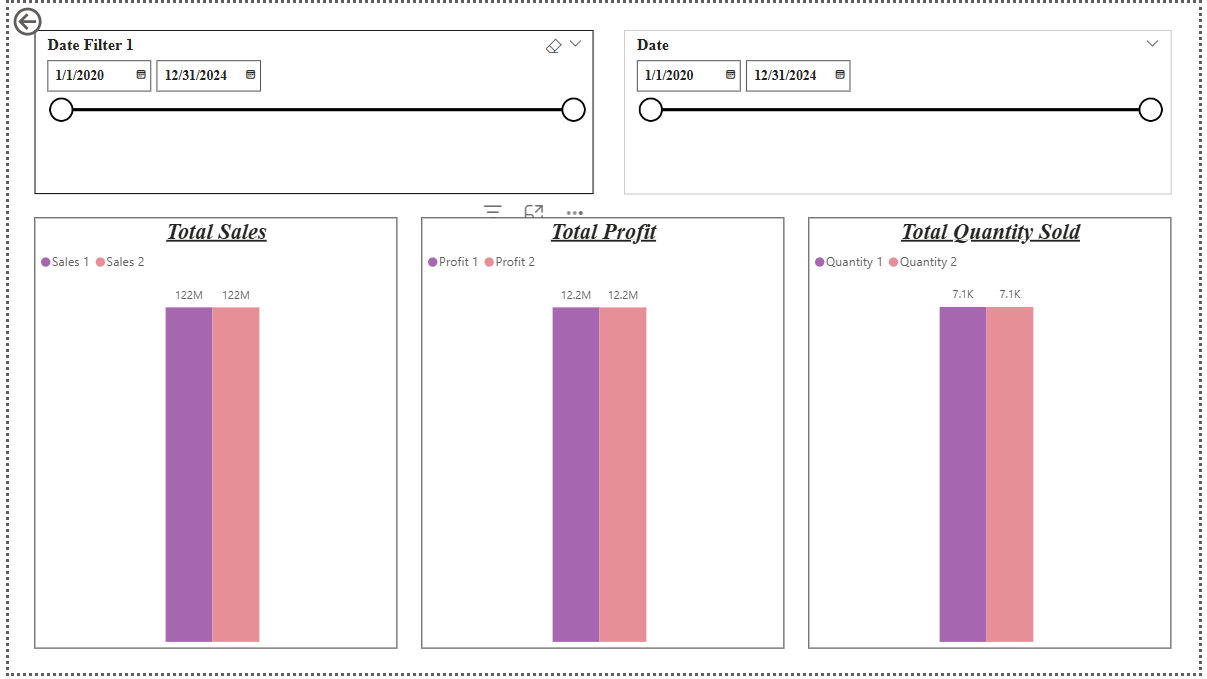

The dashboard page shown, as its layout file describes it:
{"tool":"powerbi","page":{"name":"Comparison Sales/Profit/Quantity","canvas":[1280,720],"ordinal":2},"visuals":[{"type":"slicer","fields":{"Values":["Date Table 1.Date"]},"box":[26.7,28.3,601.7,176.7],"z":0},{"type":"actionButton","box":[0,0,100,40],"z":1000},{"type":"slicer","fields":{"Values":["Date Table 2.Date"]},"box":[661.7,28.3,588.3,176.7],"z":2000},{"type":"clusteredColumnChart","title":"Total Sales","fields":{"Y":["Sum(Fact Table.Net Sales)","Date Table 1.Sum of Net Sales"]},"box":[26.7,230,390,463.3],"z":3000},{"type":"clusteredColumnChart","title":"Total Profit","fields":{"Y":["Sum(Fact Table.Profit)","Measures Table.Sum Of Profit"]},"box":[443.3,230,390,463.3],"z":4000},{"type":"clusteredColumnChart","title":"Total Quantity Sold","fields":{"Y":["Sum(Fact Table.Units Sold)","Measures Table.Quantity Sold"]},"box":[860,230,390,463.3],"z":5000}]}

Visuals, with their boxes in screenshot pixels (x1, y1, x2, y2), scaled from the page's 1280x720 canvas onto the 1207x679 screenshot:
slicer - Date Table 1.Date: crop(25, 27, 593, 193)
actionButton: crop(0, 0, 94, 38)
slicer - Date Table 2.Date: crop(624, 27, 1179, 193)
"Total Sales" clusteredColumnChart: crop(25, 217, 393, 654)
"Total Profit" clusteredColumnChart: crop(418, 217, 786, 654)
"Total Quantity Sold" clusteredColumnChart: crop(811, 217, 1179, 654)
